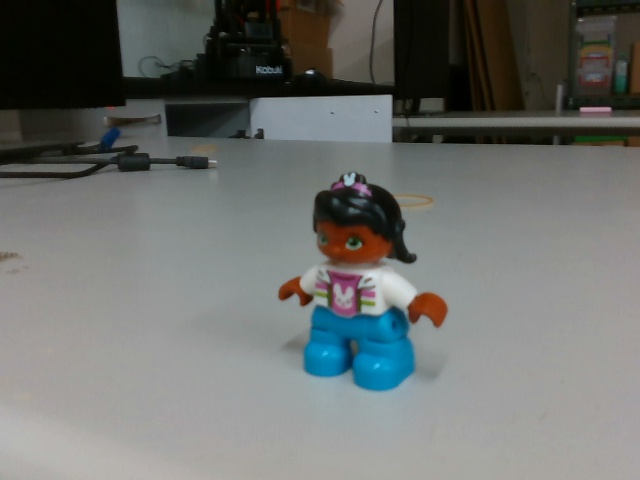people: (273, 169, 451, 391)
